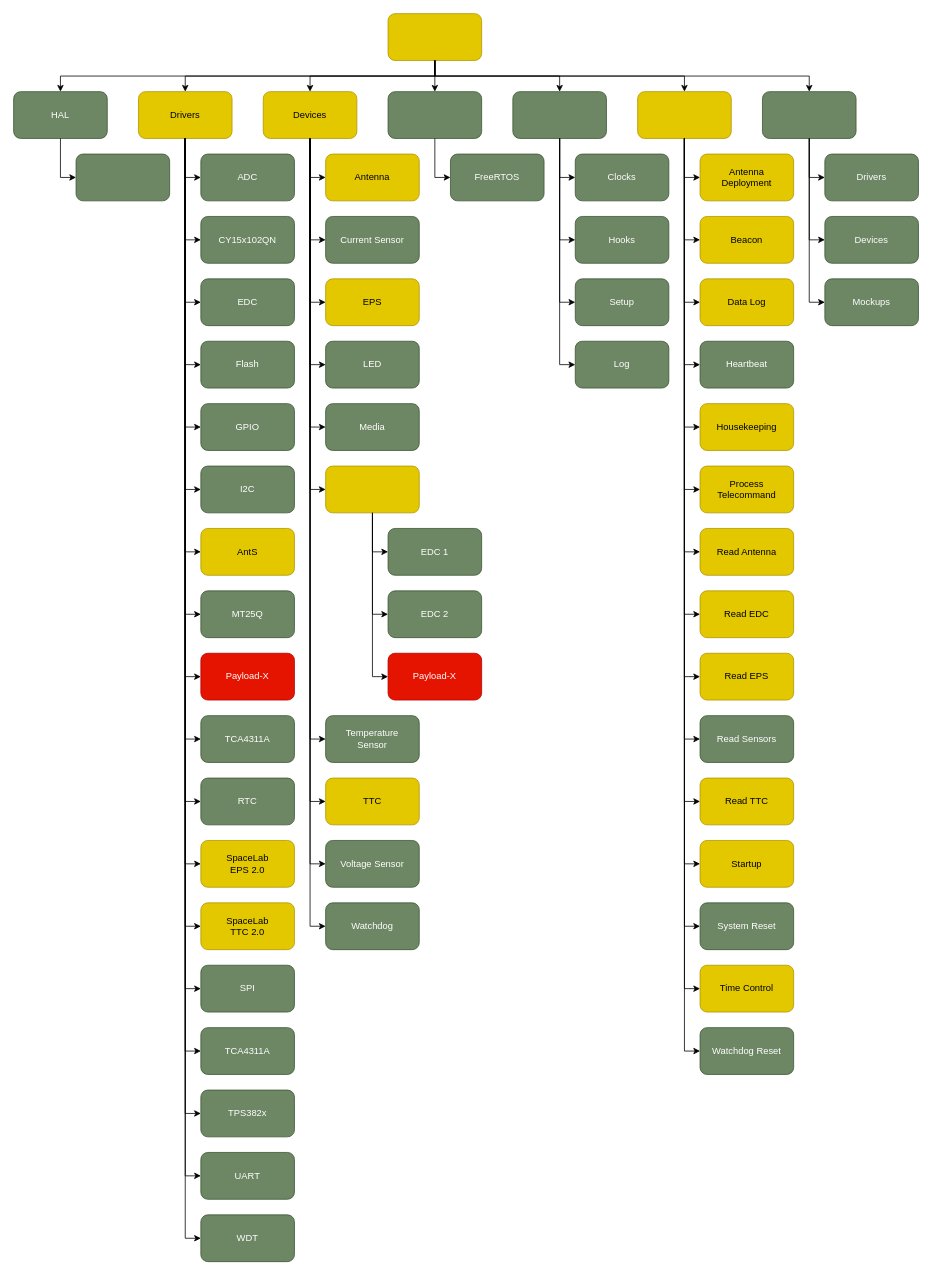
Some shapes in this 932 by 1275 pixel diagram are drawn without their labels. The box of each missing label's shape, as (x1, y1, x2, y2) in pixels:
DriverLib: (75, 153, 170, 201)
OBDH 2.0 Firmware: (387, 13, 482, 60)
Payload: (325, 465, 419, 513)
RTOS: (387, 91, 482, 138)
System: (512, 91, 606, 138)
Tasks: (637, 91, 731, 138)
Tests: (762, 91, 856, 138)
